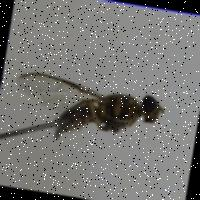Oriental-fruit-fly: (7, 62, 177, 154)
